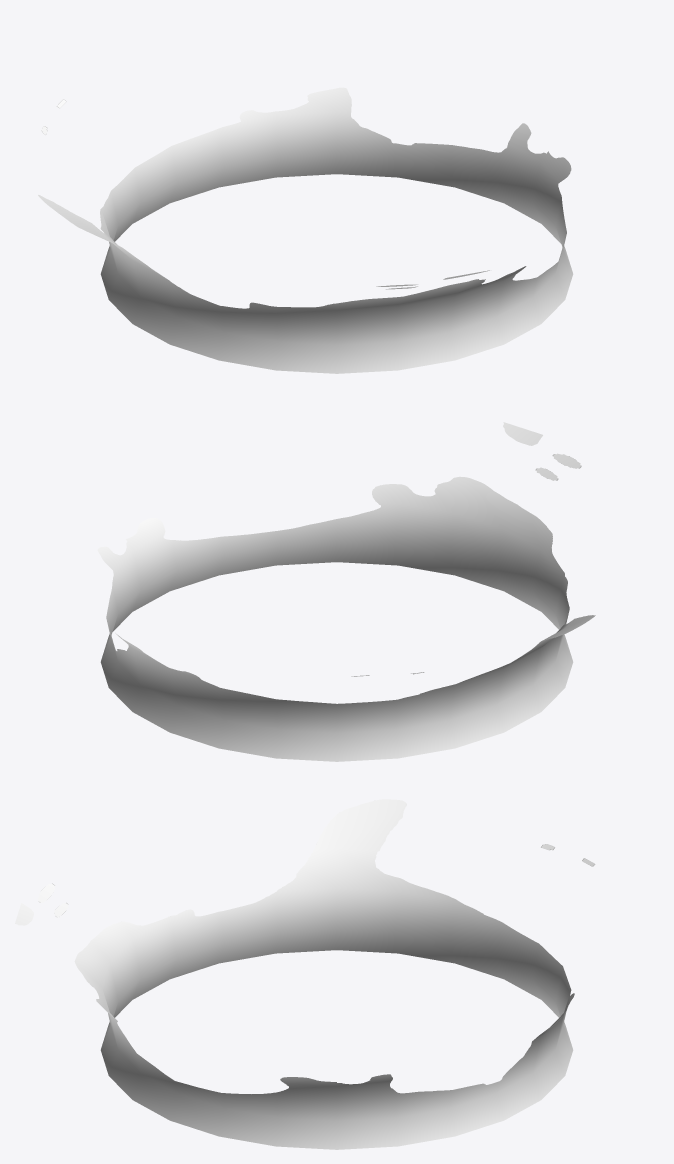
File: LaserFX.fbx
3 renders of one model, top to bottom at view 1: azimuth 30°, elevation 25°; view 2: azimuth 150°, elevation 25°; view 3: azimuth 270°, elevation 25°, orthographic.
Visible parts, largest first — view 1: LaserFX; view 2: LaserFX; view 3: LaserFX.
Boxes of the visible parts, left/top/right/bottom form: LaserFX: left=38, top=87, right=573, bottom=373; LaserFX: left=97, top=422, right=595, bottom=761; LaserFX: left=15, top=799, right=595, bottom=1149.
Bounding box in the file's own units: 411 × 86.6 × 411.
